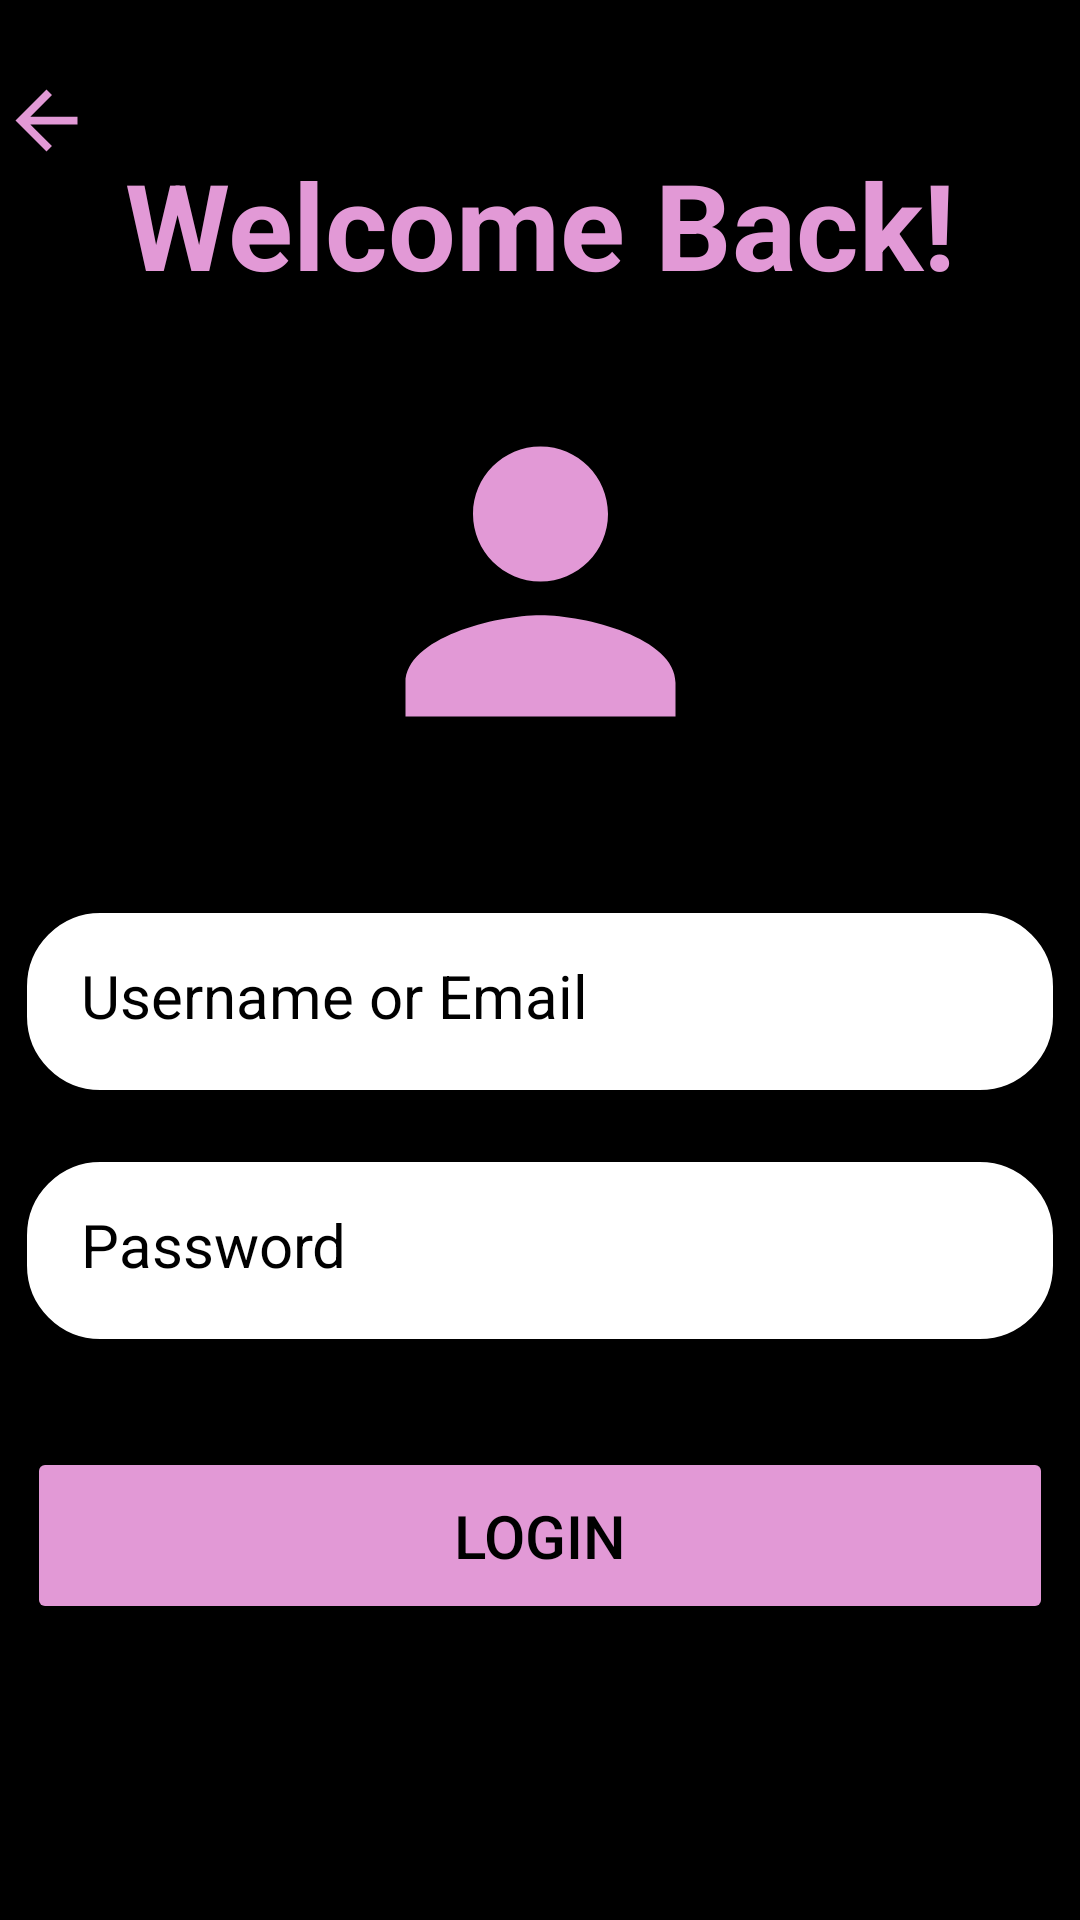

Point at icon controls on the screen. Image size 1080w x 1920h, points as [x,y].
Back arrow: [46,120]
profile picture: [540,581]
